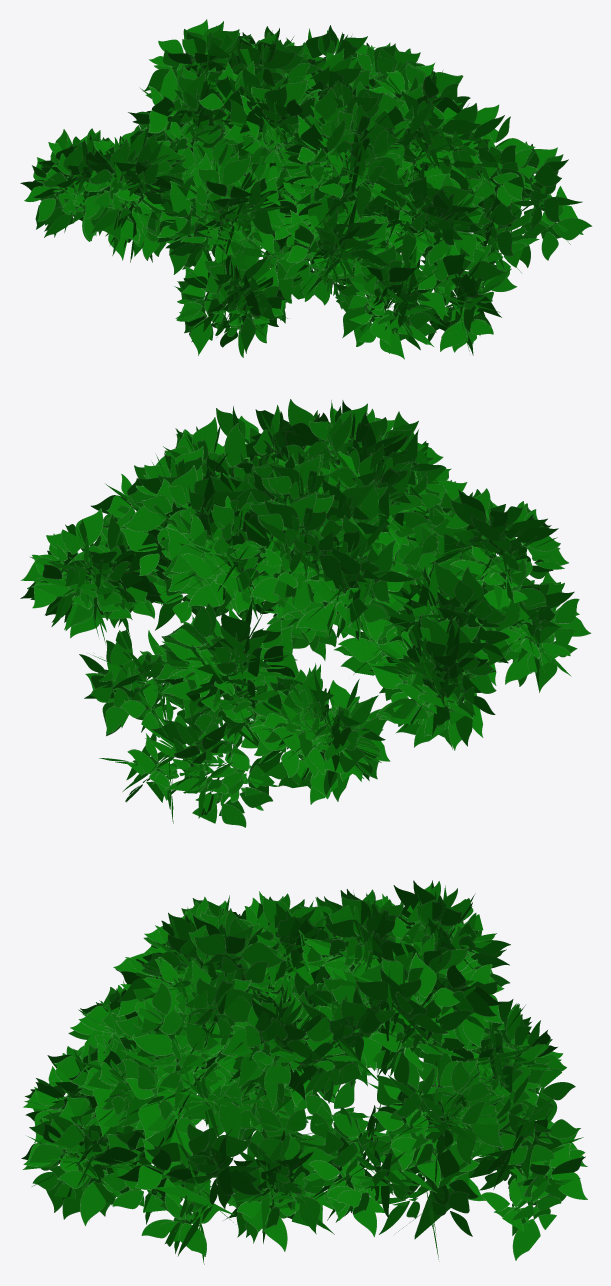
Rendered from HighLeafsLod.fbx.
3 views of the same model, one above another, from view 1: azimuth 30°, elevation 25°; view 2: azimuth 150°, elevation 25°; view 3: azimuth 270°, elevation 25° (orthographic). The views are drawn at different scales.
Parts seen in each view (by area): view 1: Plane.001; view 2: Plane.001; view 3: Plane.001.
Part boxes in pixels (x1=…): Plane.001: x1=20, y1=19, x2=592, y2=359; Plane.001: x1=20, y1=399, x2=591, y2=827; Plane.001: x1=21, y1=880, x2=587, y2=1264.
Size of the model in its own units: 563 by 341 by 542.
